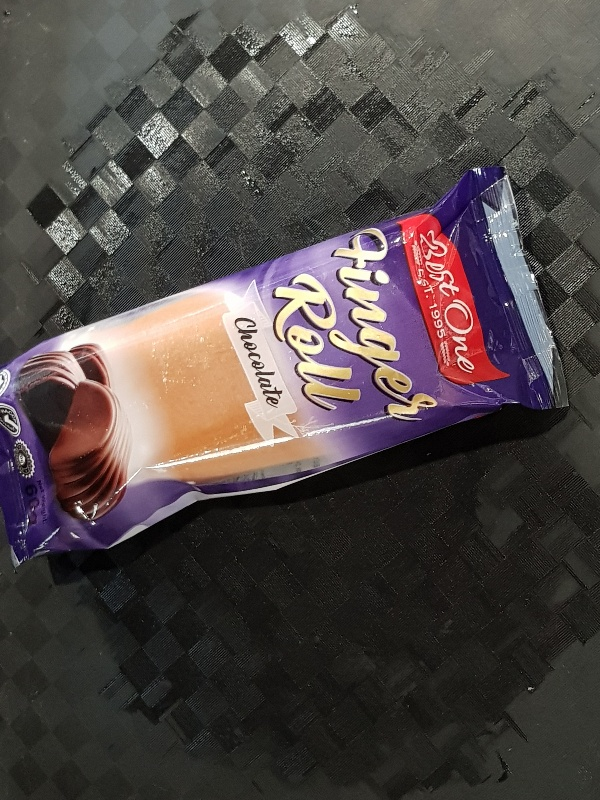Tinges Roll Chocolate: (1, 162, 566, 567)
